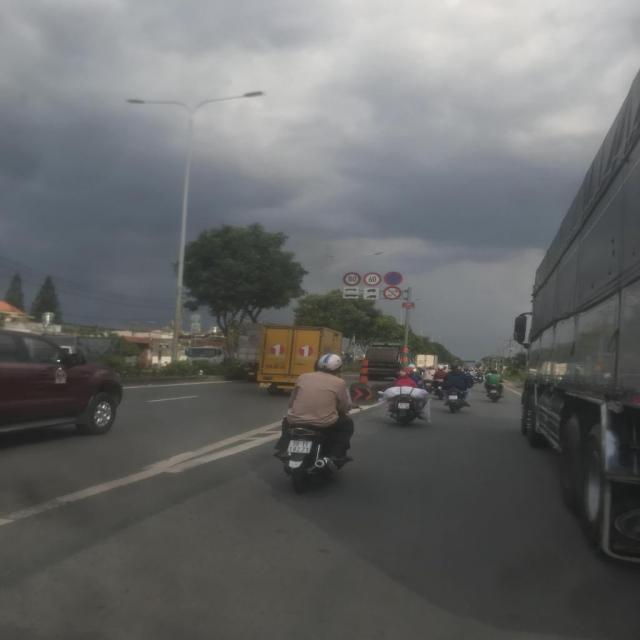cam_dung_xe_va_do_xe: (383, 271, 404, 286)
cam_xe_2_banh_va_xe_3_banh_co_dong_co: (383, 286, 402, 300)
khac: (344, 286, 360, 293), (343, 292, 359, 298), (364, 293, 380, 299), (364, 288, 380, 294)
toc_do_toi_da_60: (362, 272, 382, 288)
toc_do_toi_da_80: (343, 272, 362, 286)
